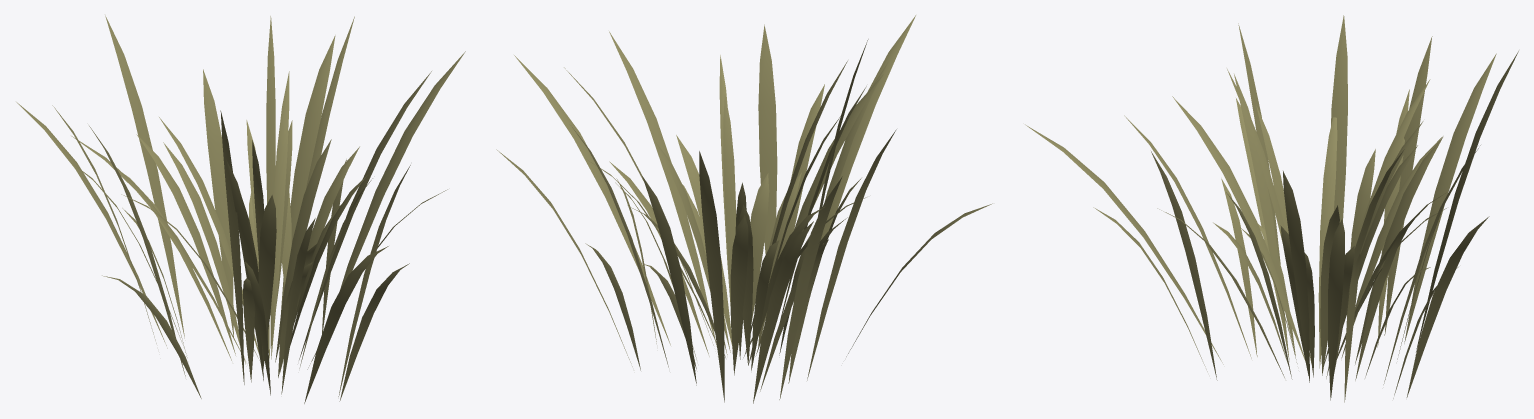
File: garden-grass-2.glb
3 renders of one model, left to right at view 1: azimuth 30°, elevation 25°; view 2: azimuth 150°, elevation 25°; view 3: azimuth 270°, elevation 25°, orthographic. The views are drawn at different scales.
Visible parts, largest first — view 1: Fine arcing grass blades; view 2: Fine arcing grass blades; view 3: Fine arcing grass blades.
Part boxes in pixels (x1=…): Fine arcing grass blades: x1=16, y1=15, x2=465, y2=403; Fine arcing grass blades: x1=496, y1=15, x2=992, y2=403; Fine arcing grass blades: x1=1025, y1=15, x2=1518, y2=402.
Bounding box in the file's own units: 0.4789 × 0.3364 × 0.4926.
